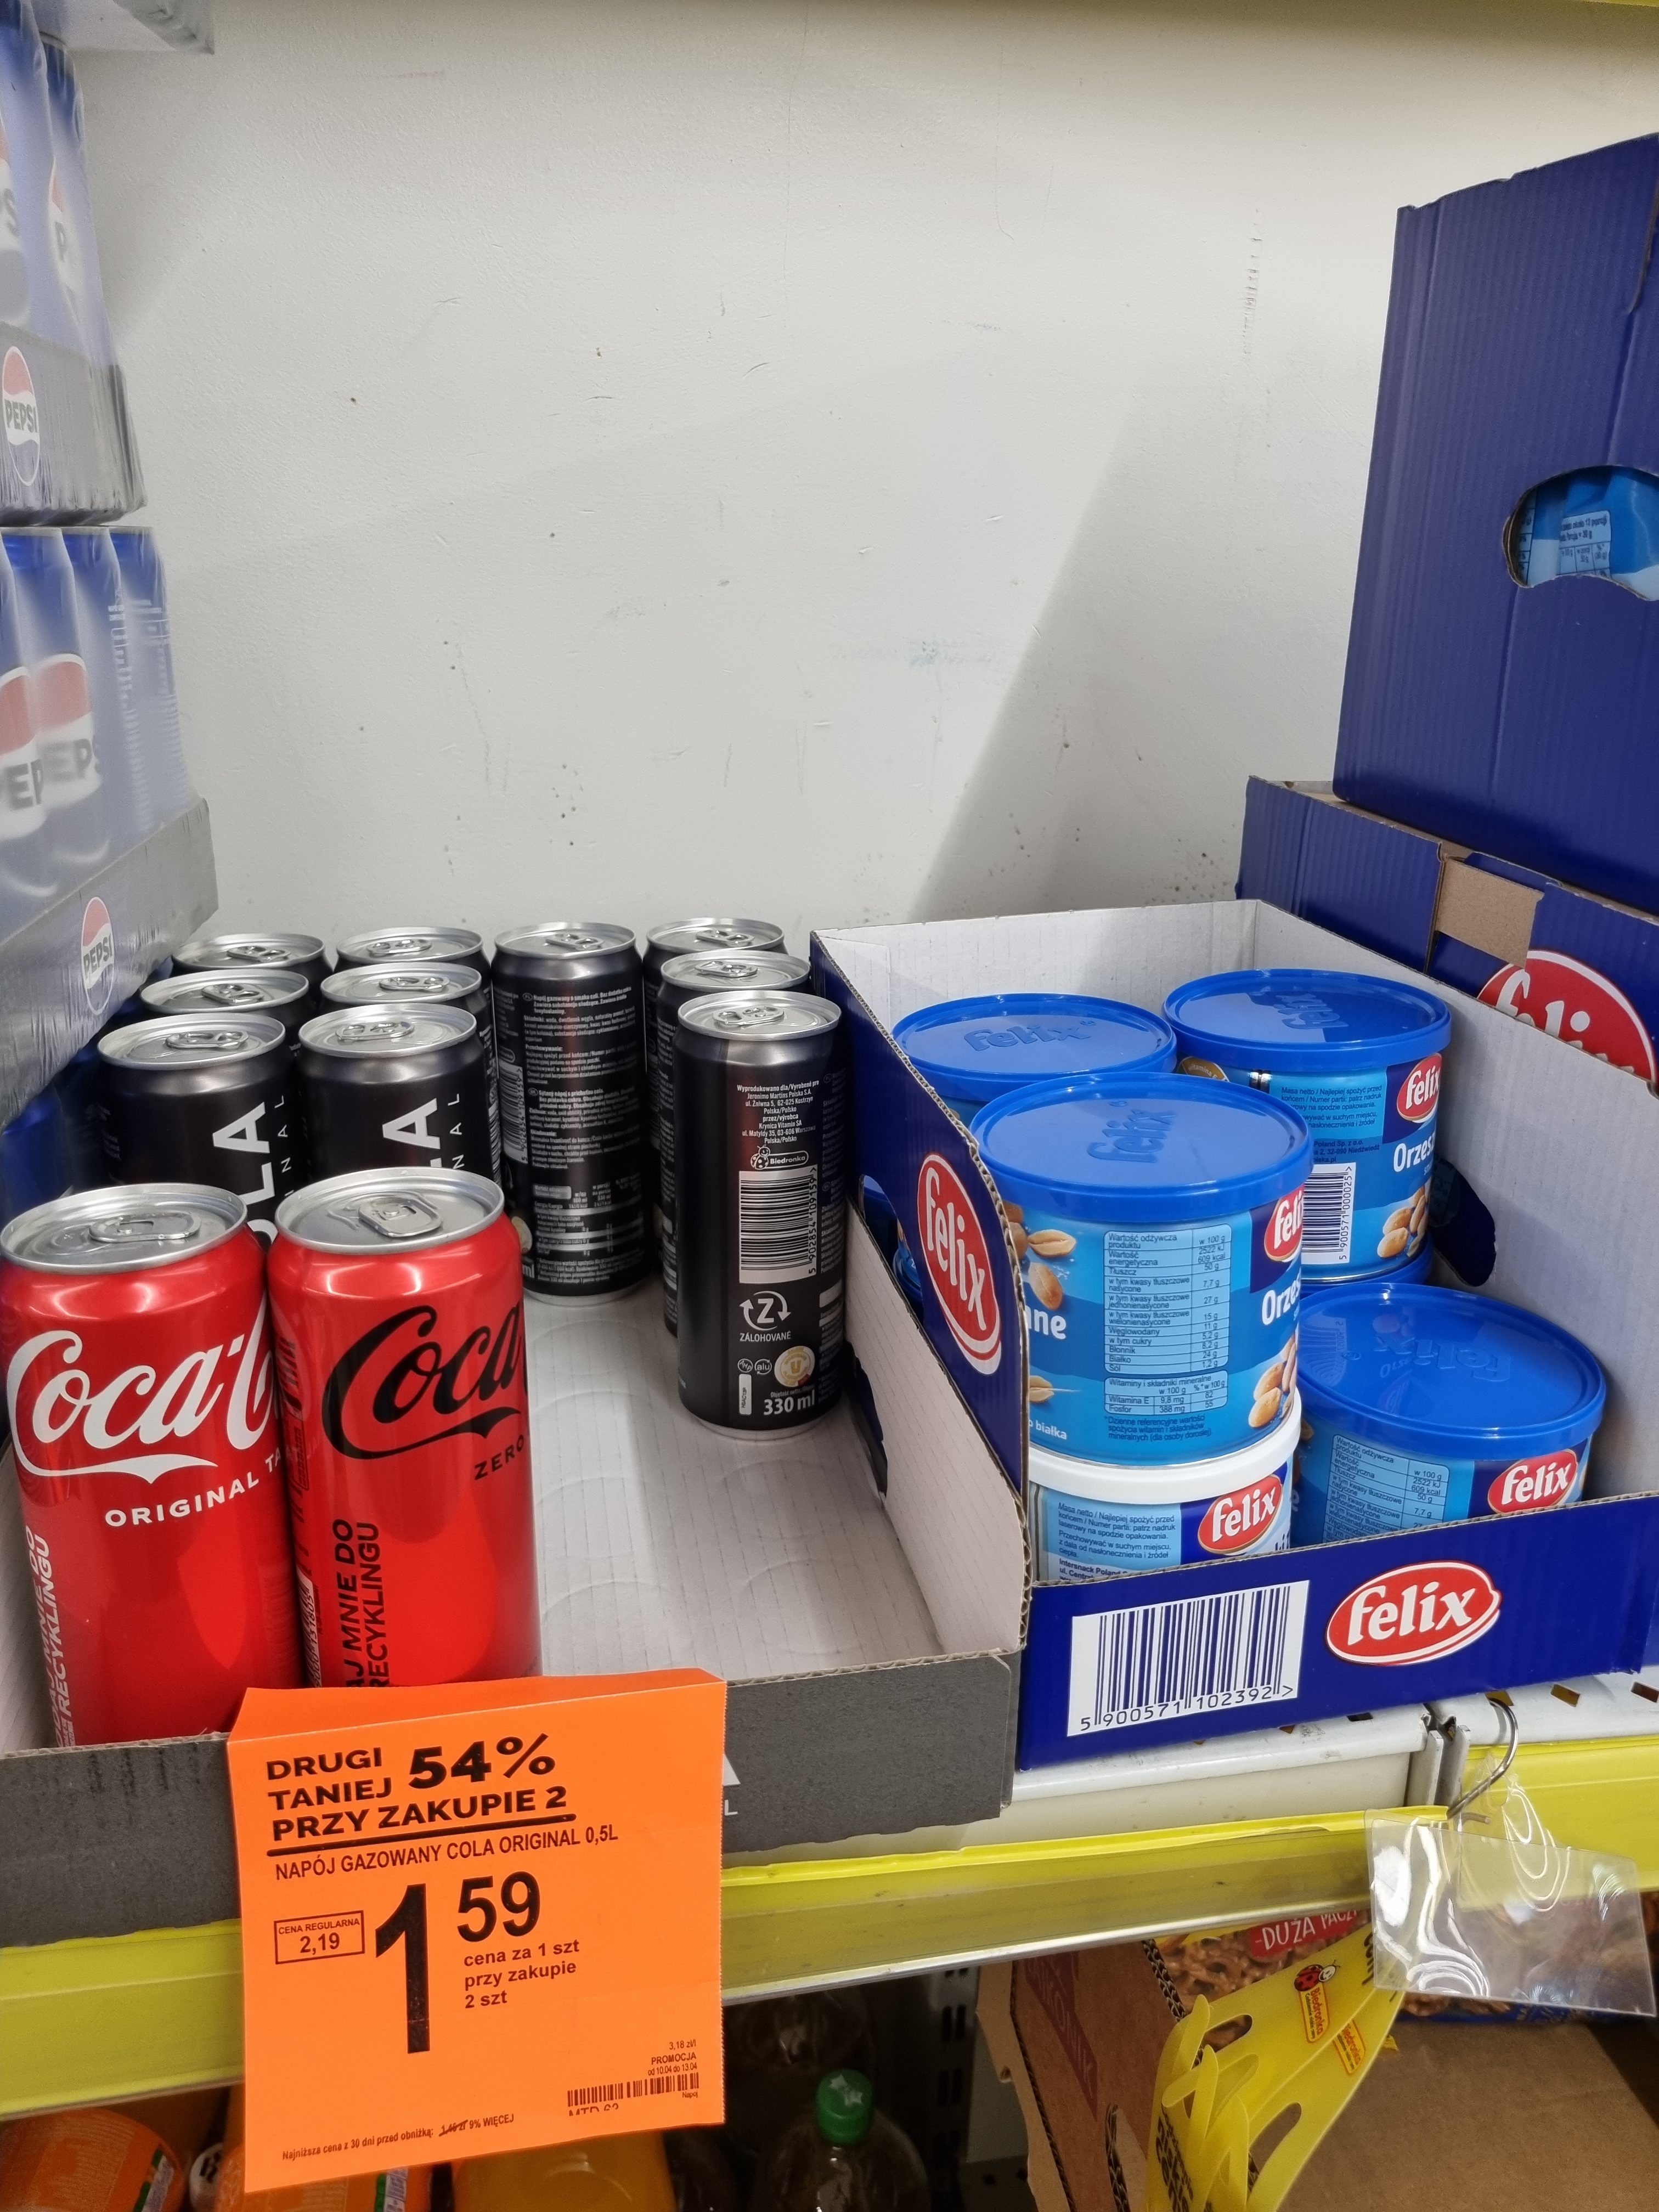Coca Cola: (2, 1183, 301, 1754), (258, 1169, 547, 1716)
